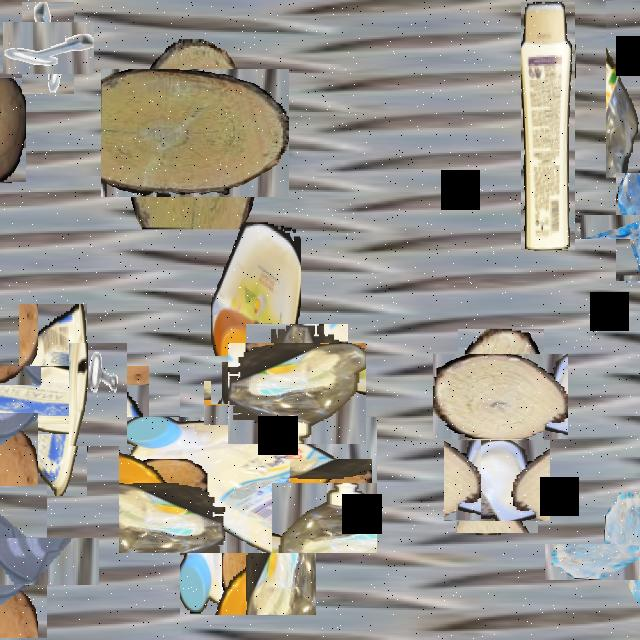glass: (0, 512, 73, 611), (574, 514, 640, 609), (595, 194, 640, 260)
metal: (69, 343, 127, 446), (12, 12, 84, 84)
plastic: (149, 387, 347, 584), (211, 222, 301, 404), (0, 335, 118, 465), (237, 333, 357, 453), (521, 2, 575, 250), (450, 433, 544, 527), (606, 2, 640, 180)
wood: (116, 54, 274, 213), (446, 341, 556, 452), (0, 413, 38, 551), (212, 372, 276, 435), (0, 78, 26, 182)
